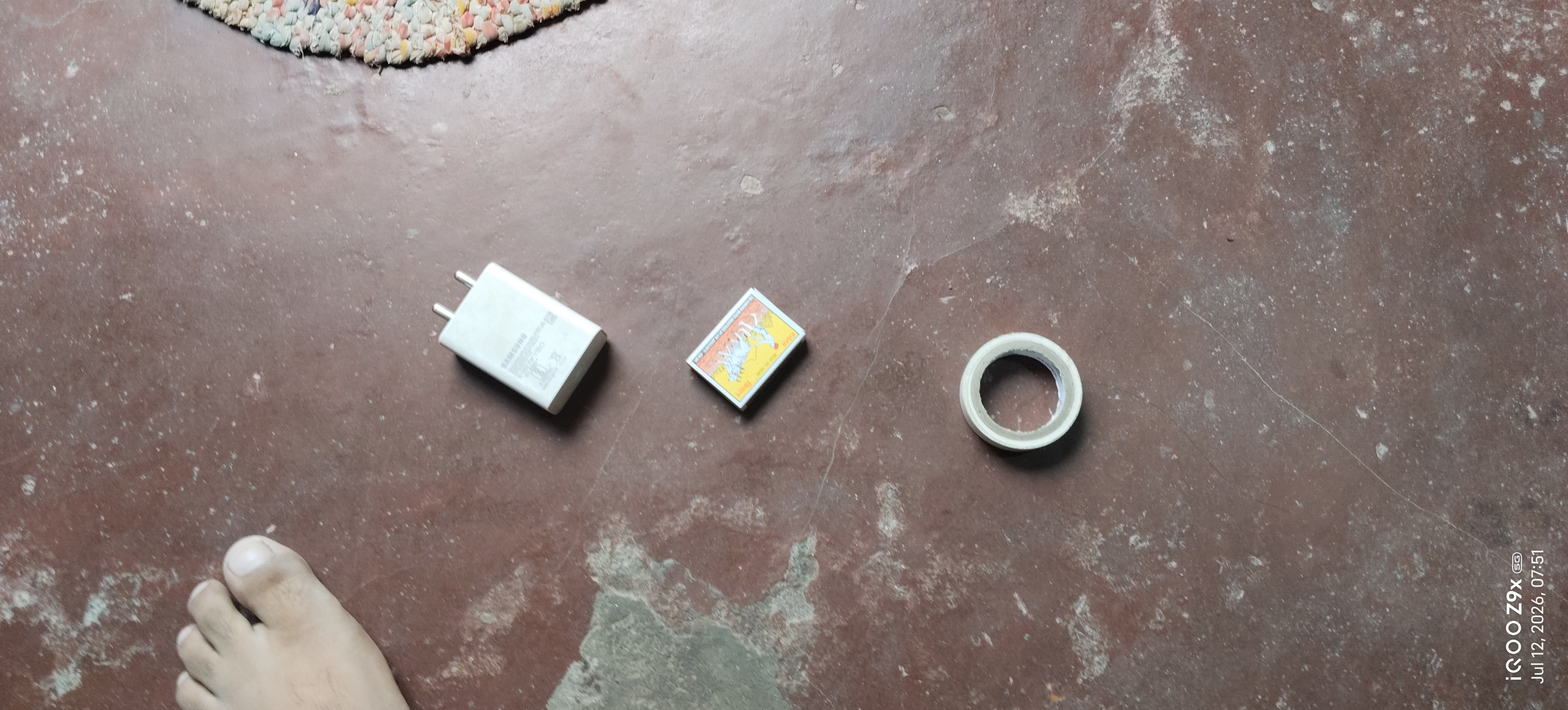charger: (398, 218, 642, 455)
matchbox: (670, 270, 834, 440)
tape_roll: (931, 308, 1113, 485)
